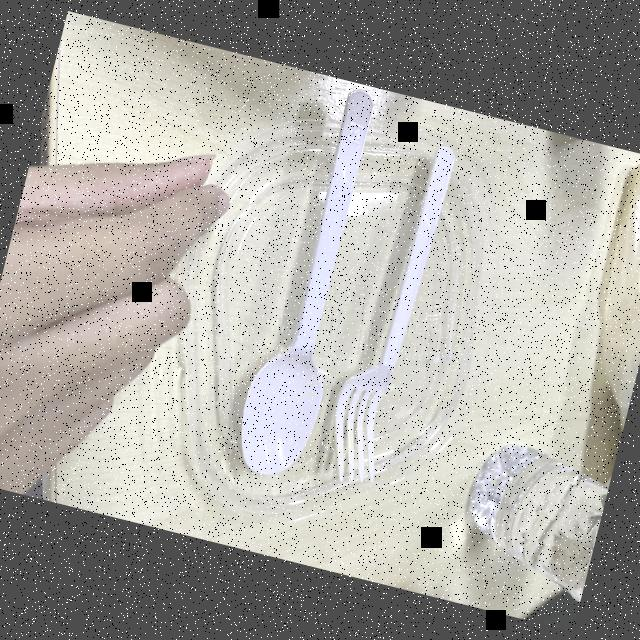plastic_cultery: (214, 71, 400, 484), (318, 130, 471, 491)
